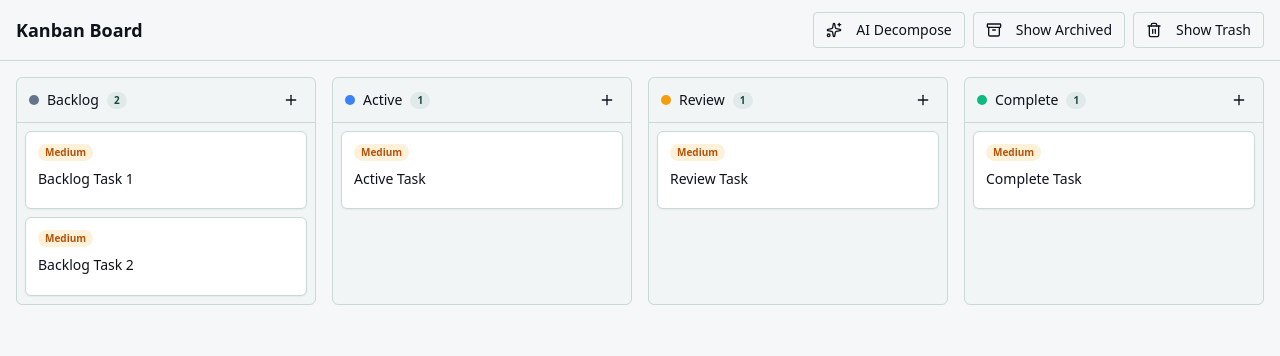
Test: KanbanPage › shows "Show Archived" button and toggles archived tasks
expect the heading "Backlog Task 1" is shown: met, box [38,169,134,188]
expect the text "Archived Task" is not shown: met
Click the button "Show Archived" at (1049, 30), box [973,12,1125,48]
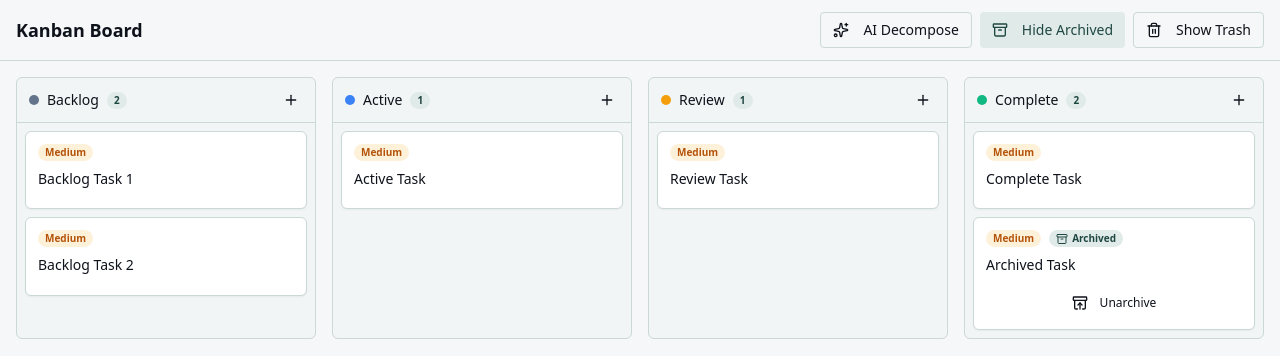
expect the heading "Archived Task" is shown: met, box [986,255,1075,274]
expect the button "Hide Archived" is shown: met, box [980,12,1125,48]
